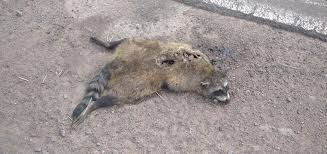raccoon: (91, 33, 233, 105)
